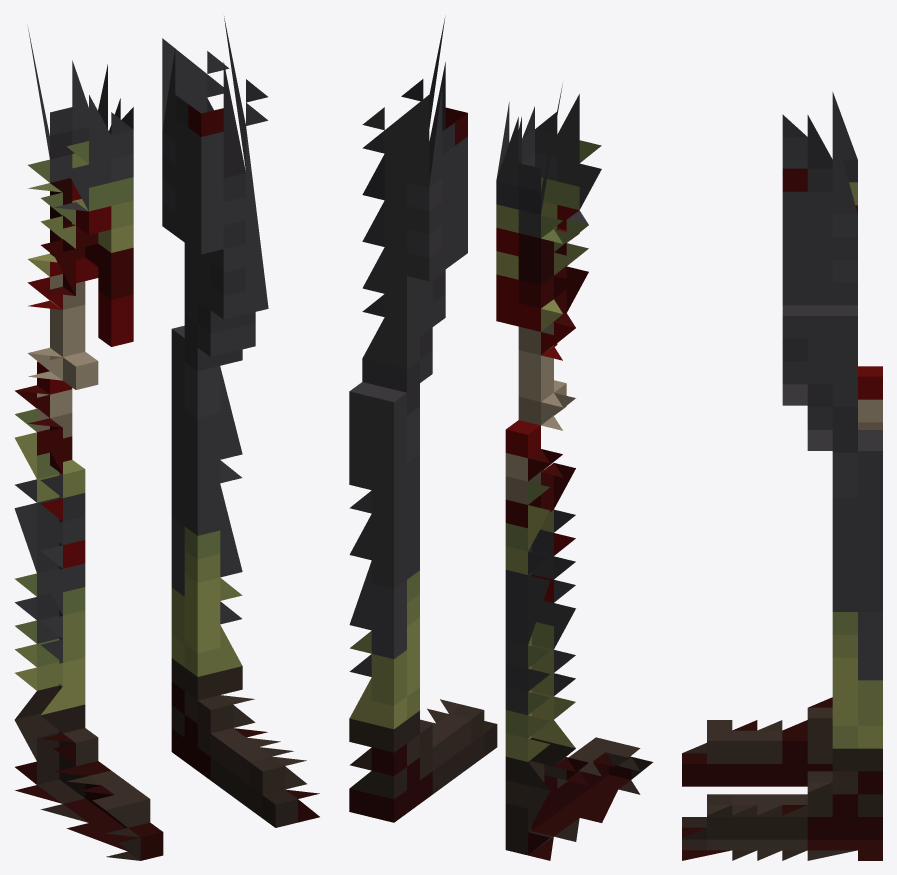
Rendered from zed3_legs.glb.
3 views of the same model, side by side, from view 1: azimuth 30°, elevation 25°; view 2: azimuth 150°, elevation 25°; view 3: azimuth 270°, elevation 25° (orthographic). The views are drawn at different scales.
Visible parts, largest first — view 1: zed3_legs; view 2: zed3_legs; view 3: zed3_legs.
Part boxes in pixels (bbox=[...]): zed3_legs: bbox=[14, 16, 319, 860]; zed3_legs: bbox=[349, 17, 653, 860]; zed3_legs: bbox=[682, 92, 882, 860].
Size of the model in its own units: 0.2812 by 1.03 by 0.25.
Materials: 1 (1 with a texture image).
